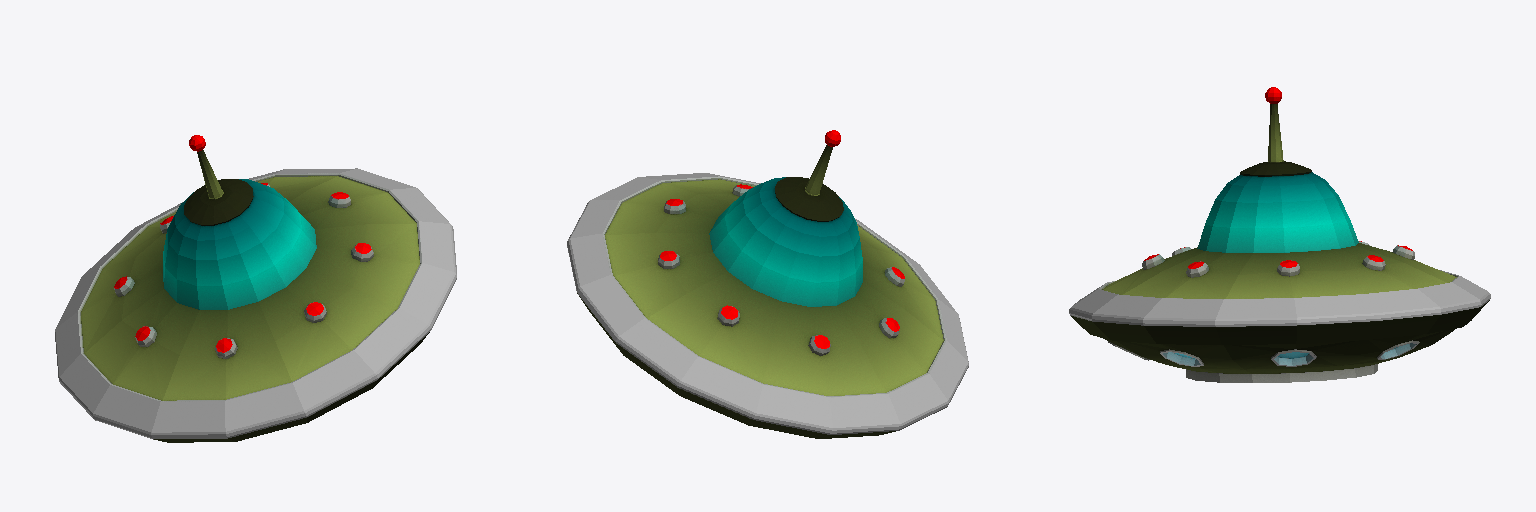
3 renders of one model, left to right at view 1: azimuth 30°, elevation 25°; view 2: azimuth 150°, elevation 25°; view 3: azimuth 270°, elevation 25°, orthographic.
Parts seen in each view (by area): view 1: CamoColorSpaceShip; view 2: CamoColorSpaceShip; view 3: CamoColorSpaceShip.
Part boxes in pixels (bbox=[...]): CamoColorSpaceShip: bbox=[55, 135, 456, 442]; CamoColorSpaceShip: bbox=[567, 130, 968, 438]; CamoColorSpaceShip: bbox=[1069, 87, 1490, 382].
Size of the model in its own units: 121 by 92.55 by 128.
Materials: 1 (1 with a texture image).